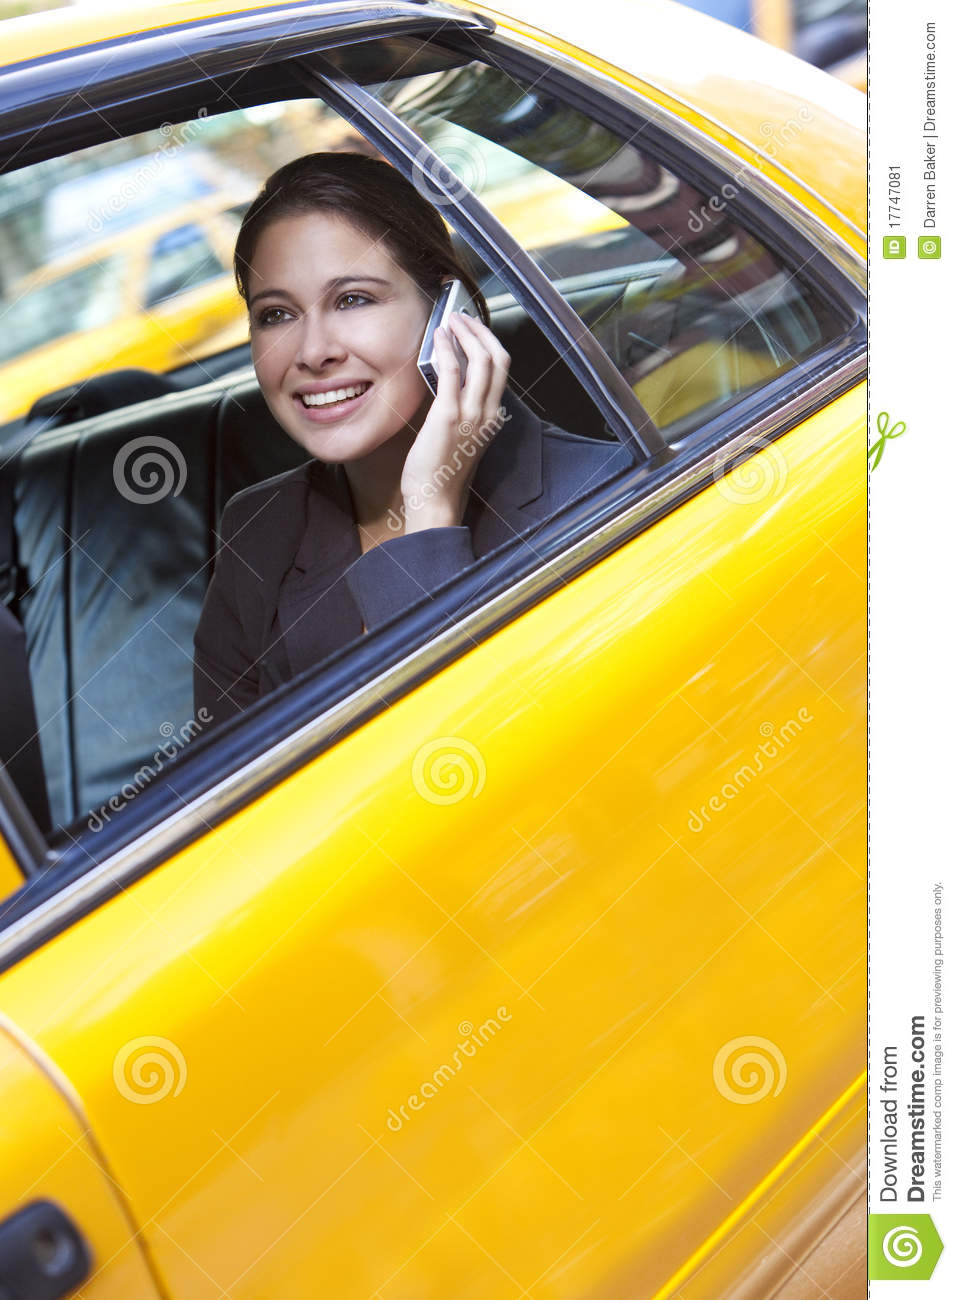phone: (413, 280, 485, 400)
talk: (252, 272, 513, 521)
